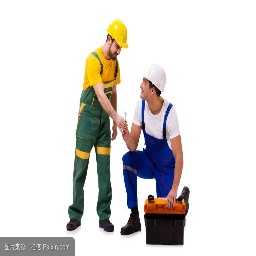helmet: (142, 60, 165, 97), (105, 20, 129, 48)
no-vest: (138, 100, 178, 171)
person: (70, 15, 129, 234), (125, 62, 182, 237)
